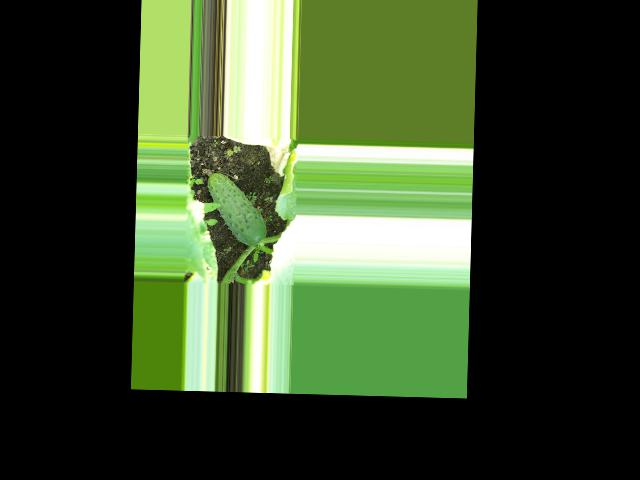cucumber: (205, 172, 268, 247)
